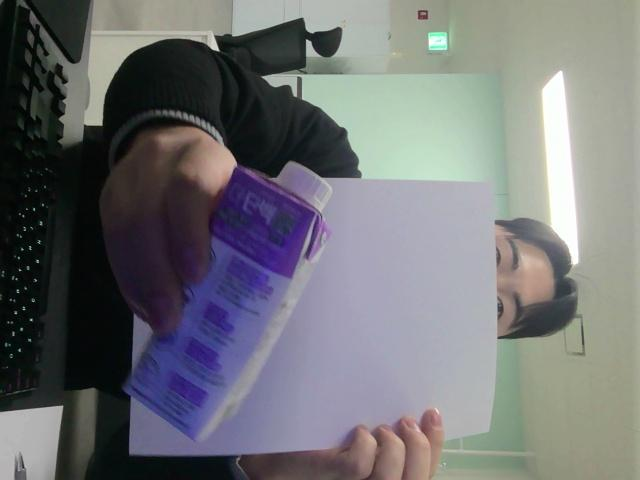milk: (123, 164, 331, 440)
